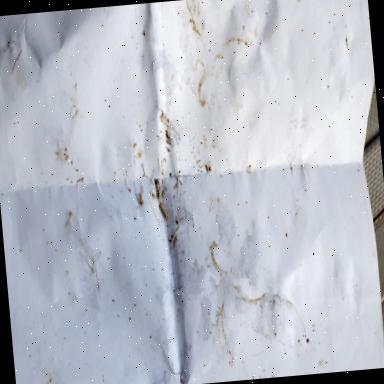pbw: (158, 197, 169, 221), (154, 178, 162, 201)
